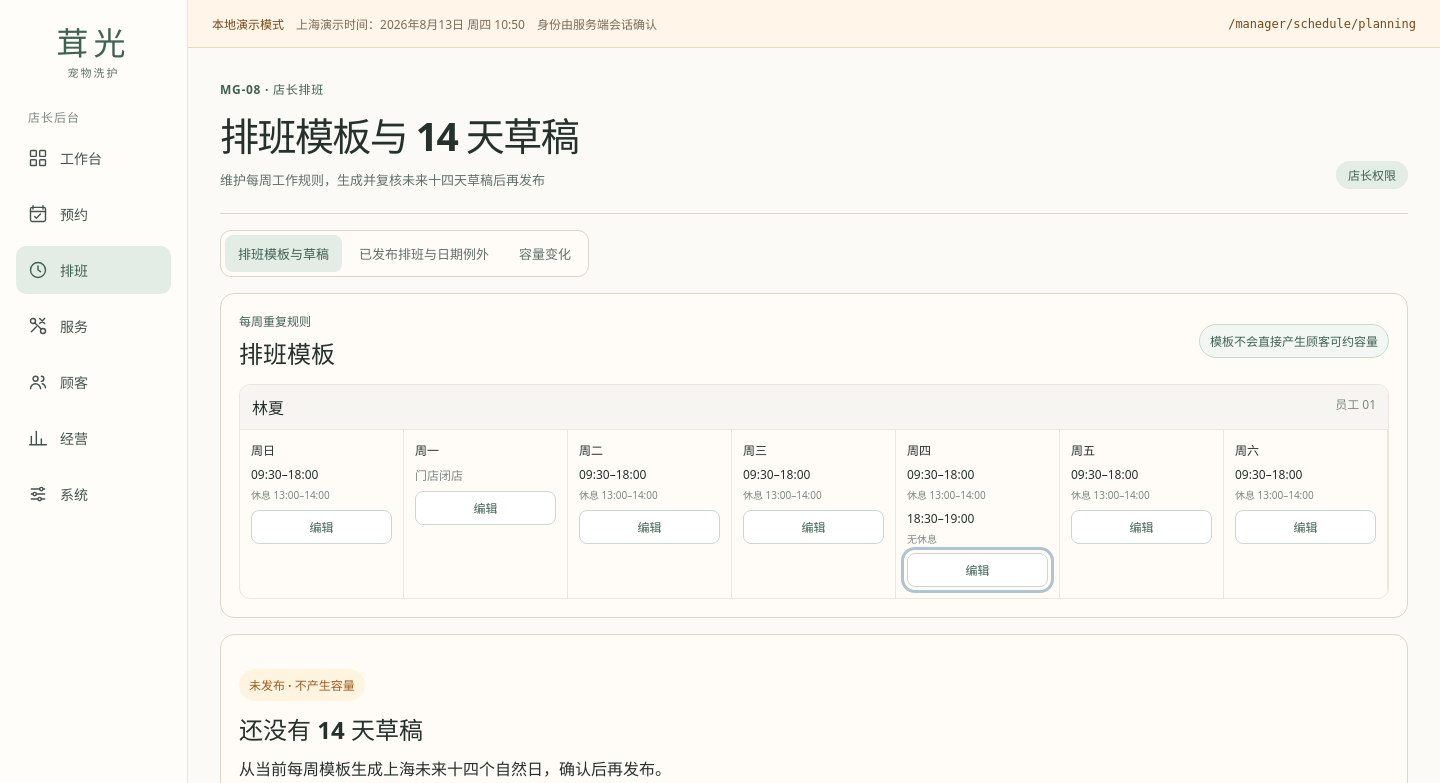
Test: MG-08 排班模板与十四天草稿页面 › 可维护员工每周工作日的班次与休息区间
Click the button with aria-label "编辑林夏周四模板" at (978, 570), box [907, 553, 1048, 587]
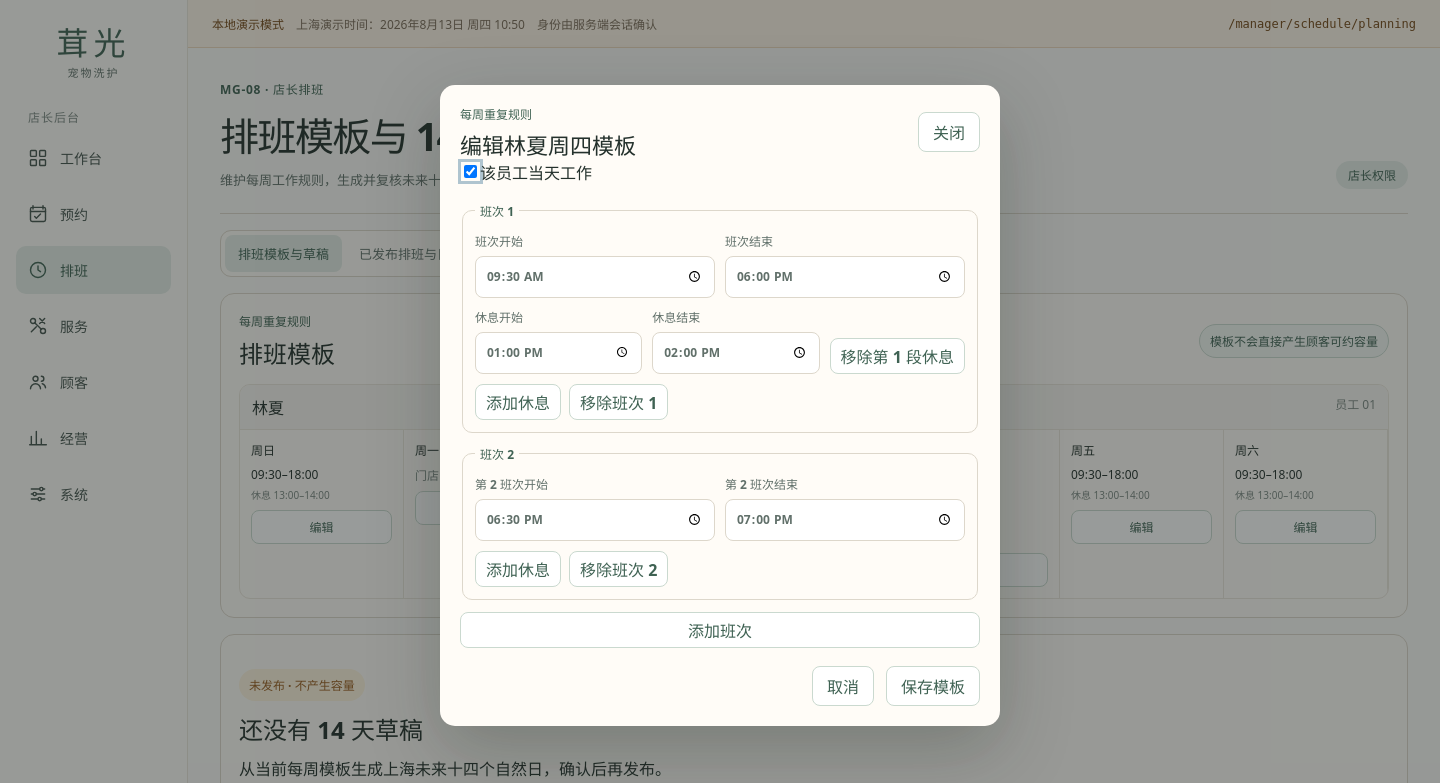
Replace the text in the time field labelled "班次开始" with "10:00" at (595, 276), box [475, 256, 715, 298]
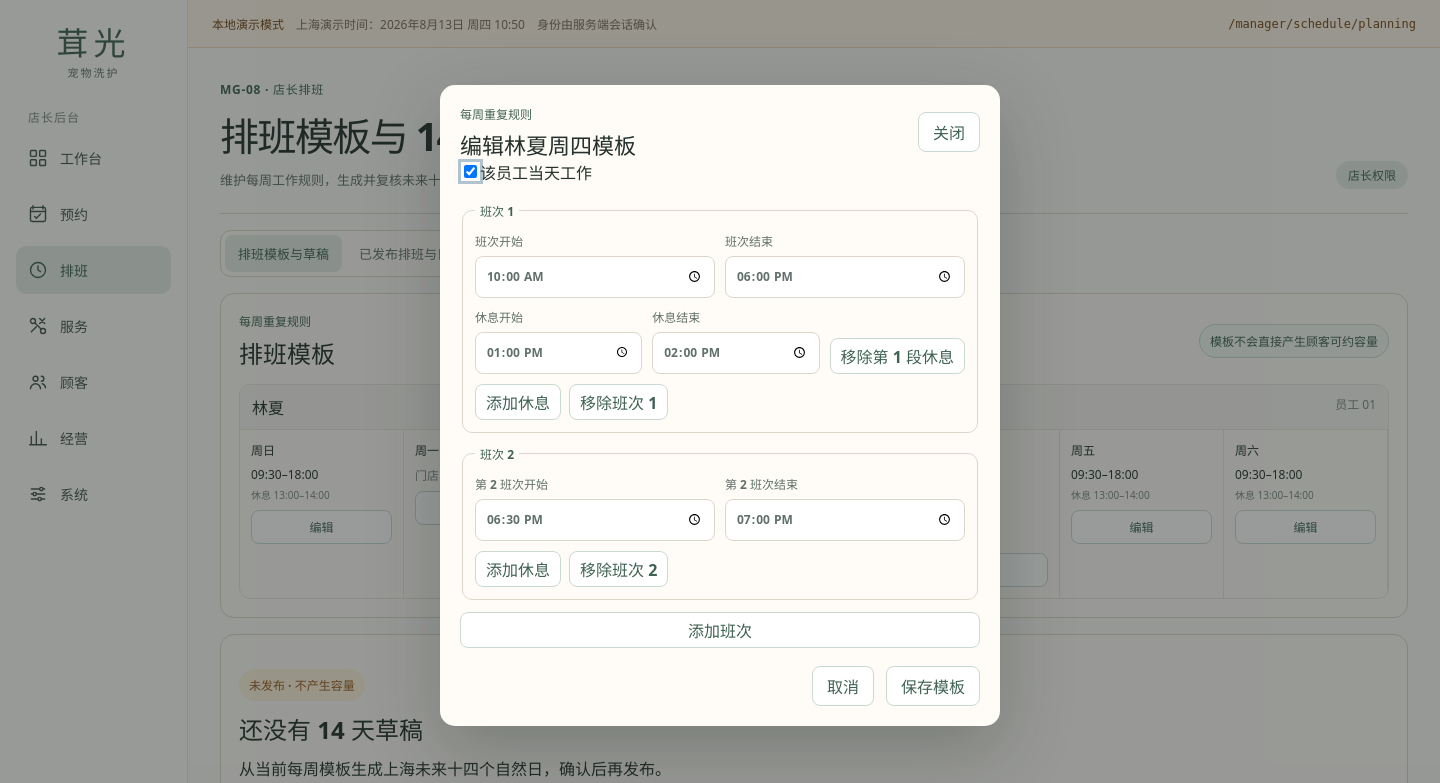
Replace the text in the time field labelled "班次结束" with "18:30" at (845, 276), box [725, 256, 965, 298]
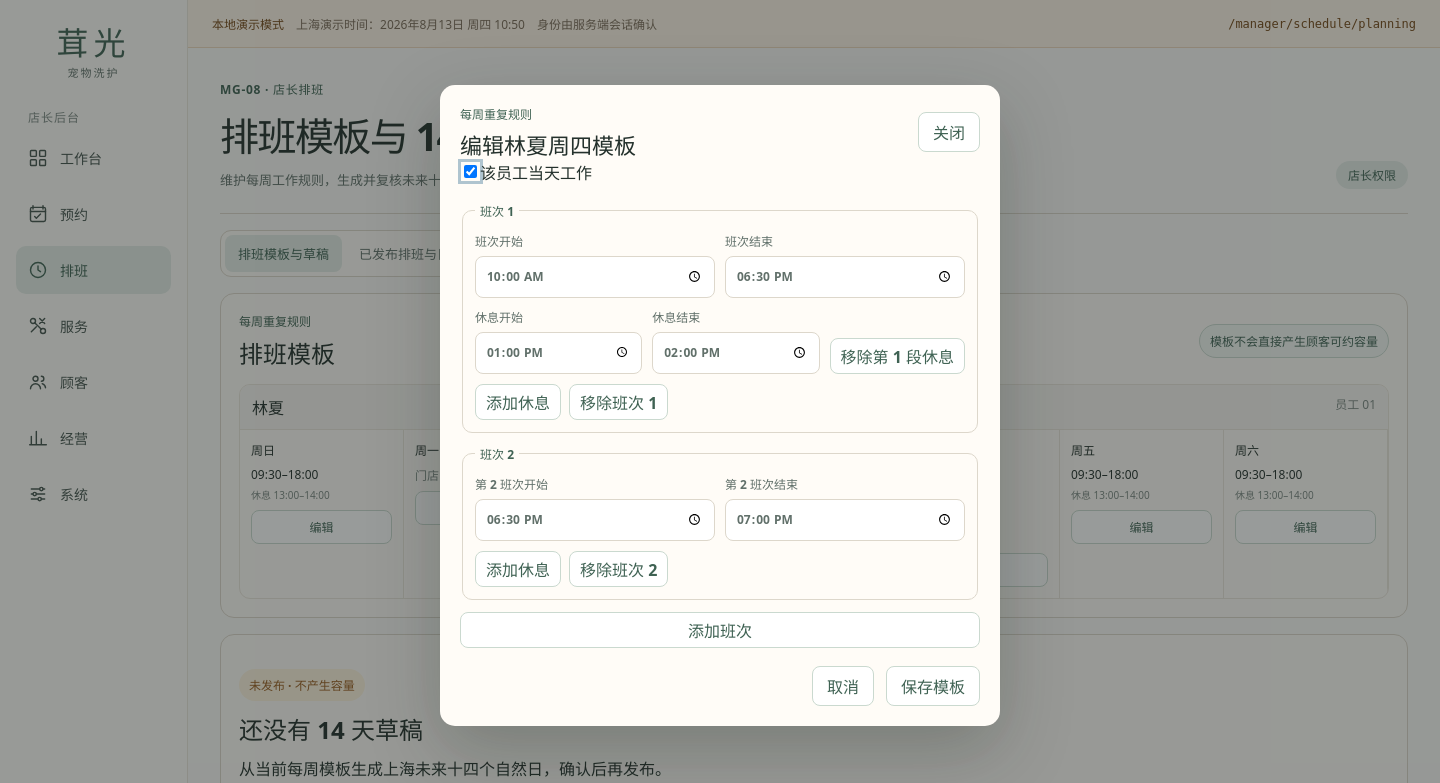
Replace the text in the time field labelled "休息开始" with "13:30" at (559, 352), box [475, 332, 642, 374]
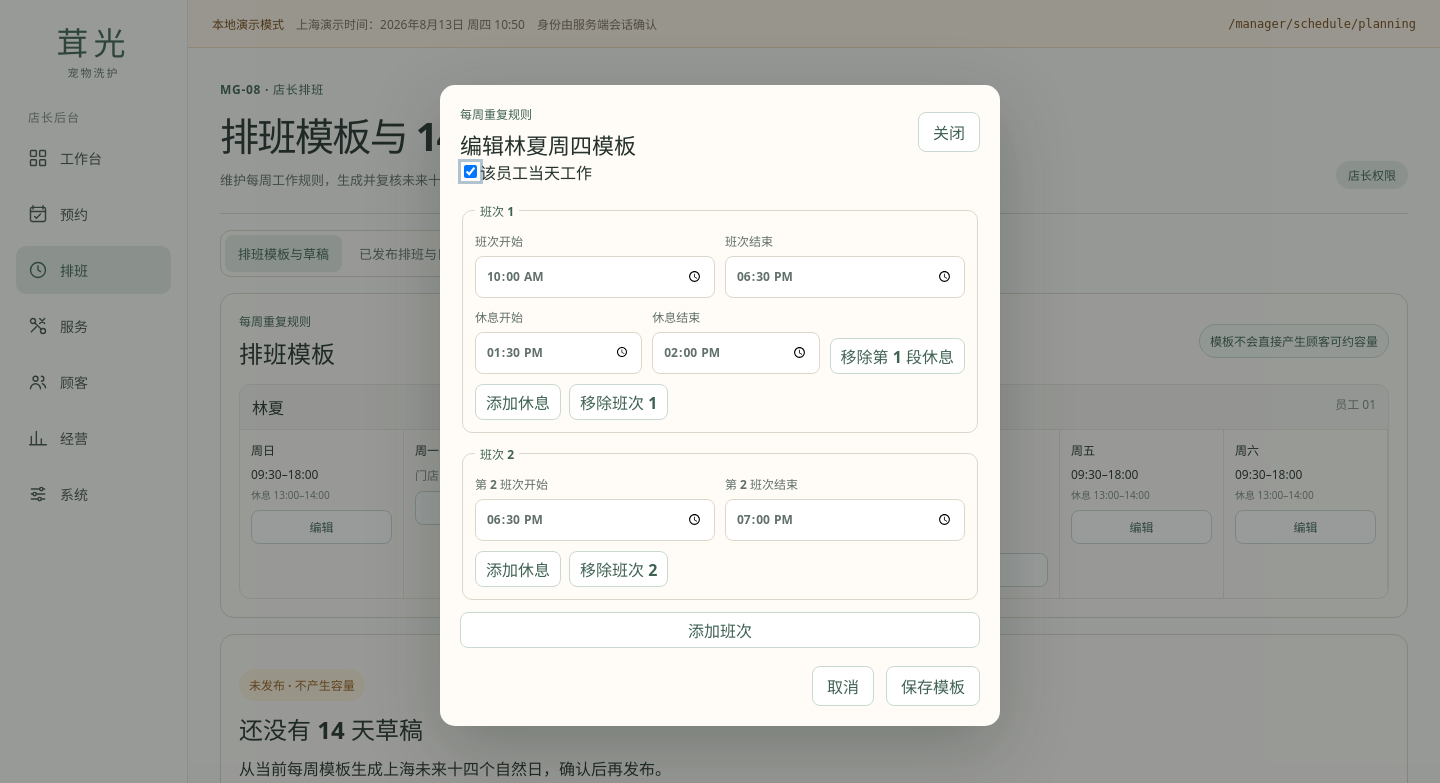
Replace the text in the time field labelled "休息结束" with "14:15" at (736, 352), box [652, 332, 820, 374]
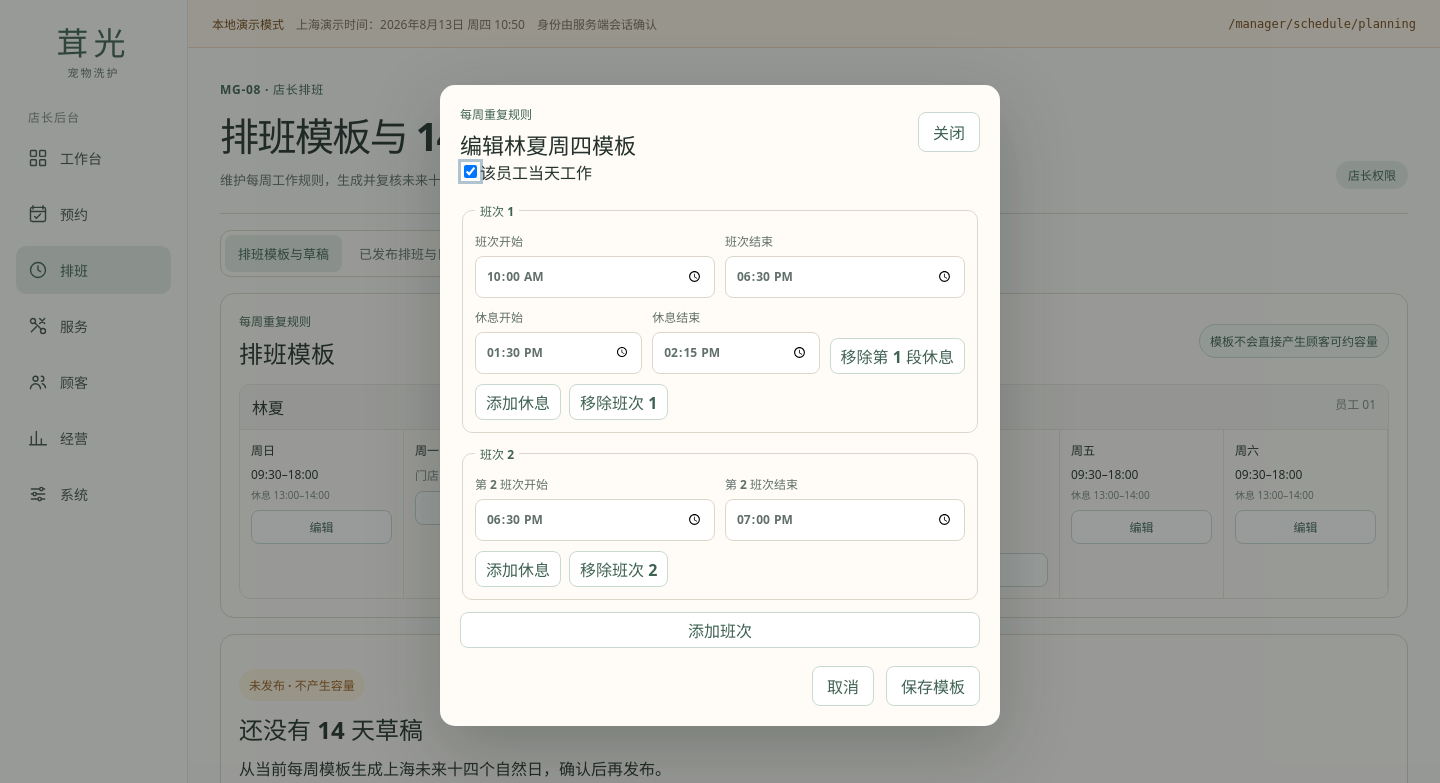
Click the button "保存模板" at (933, 686), box [886, 666, 980, 706]
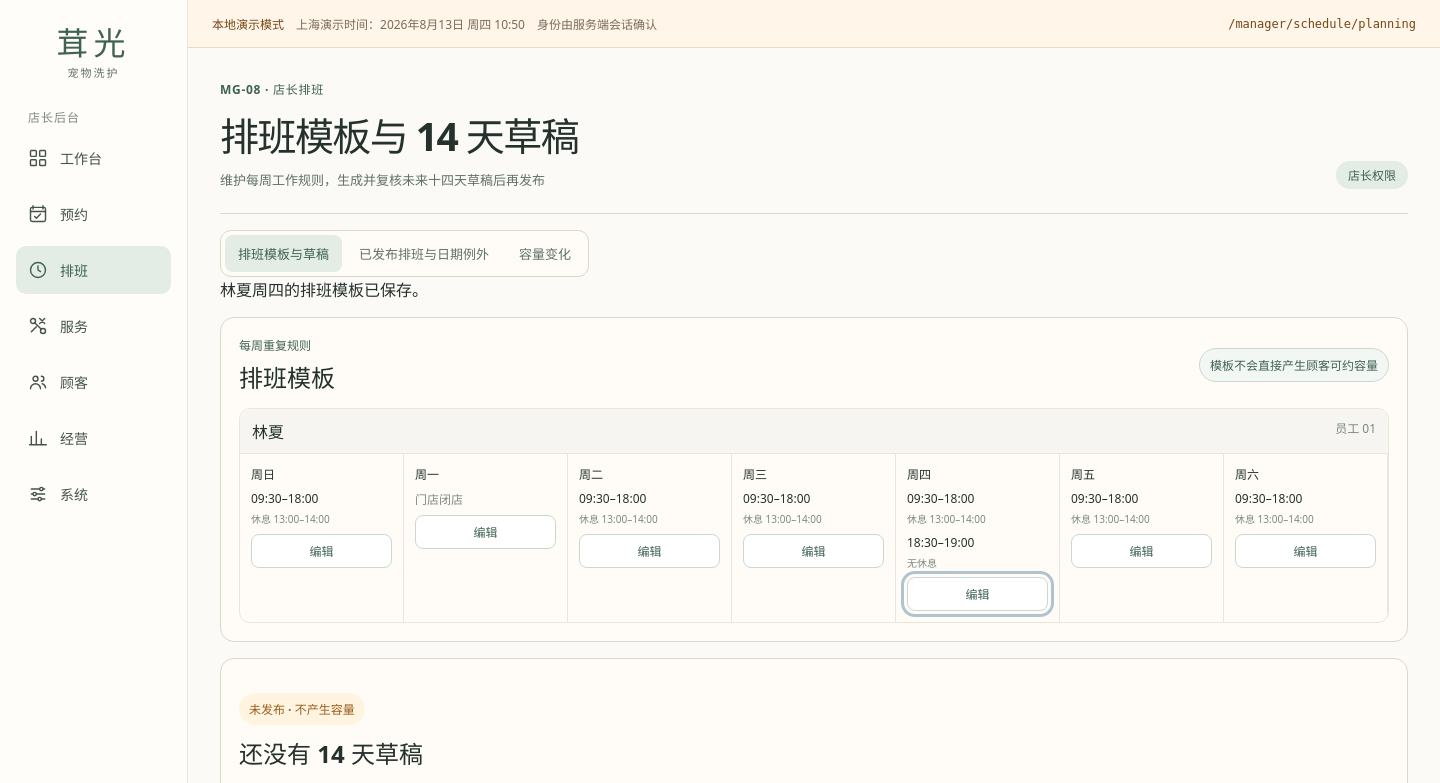
Expected: the text "林夏周四的排班模板已保存。" is shown, [220, 279, 428, 301]
